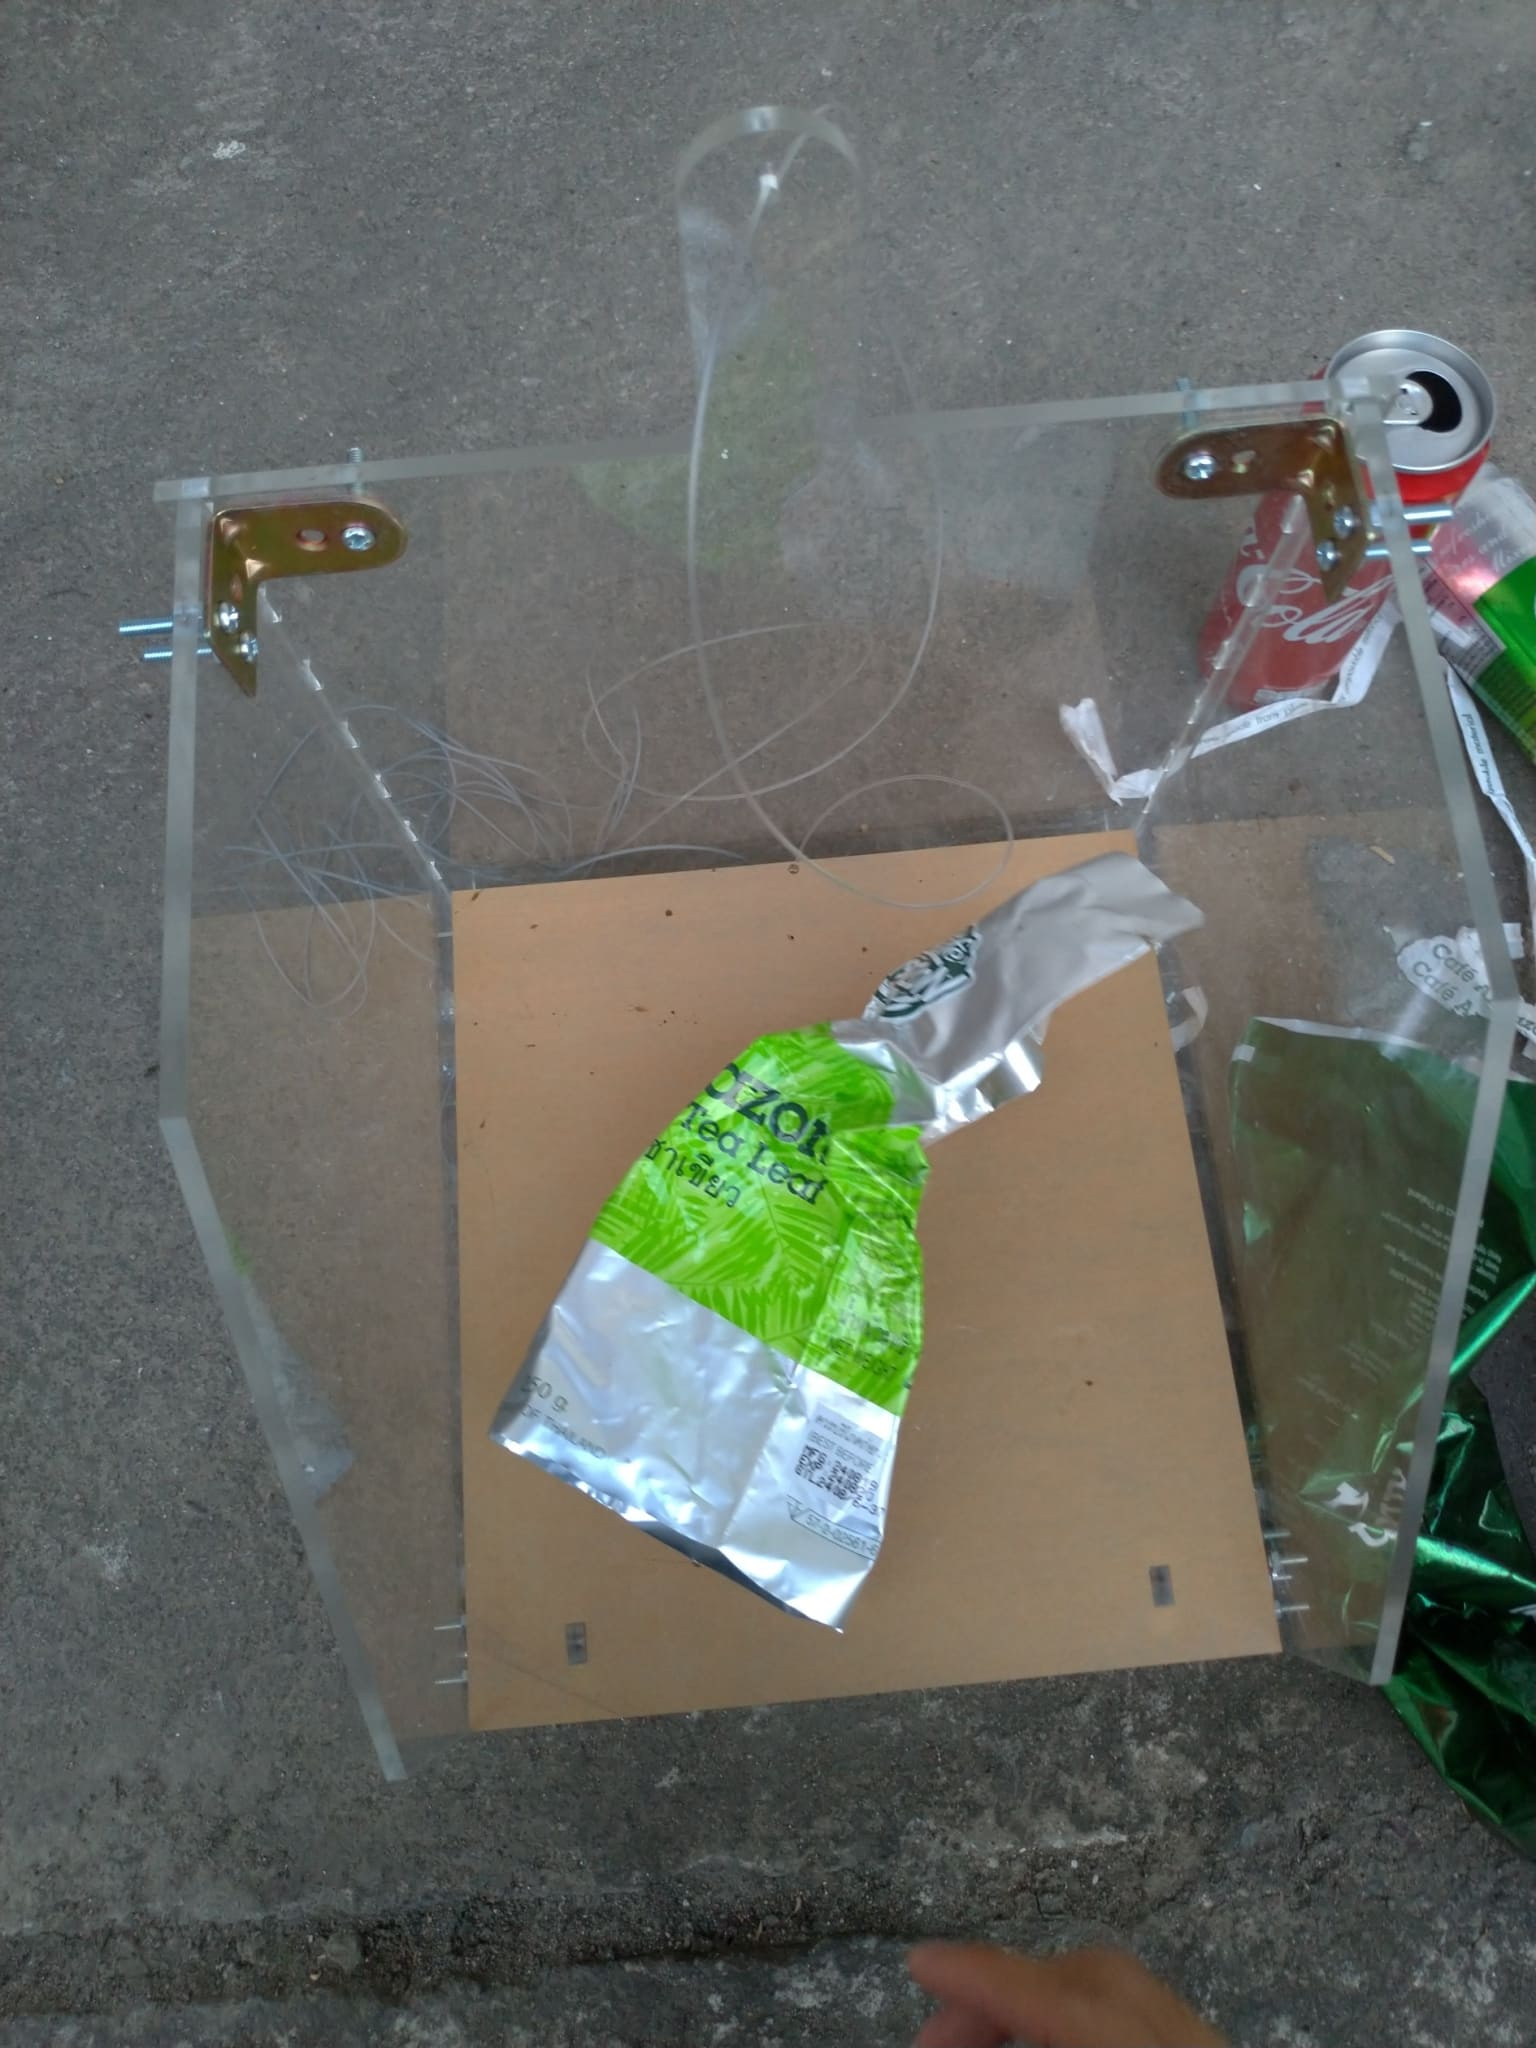AlCan: (1200, 332, 1494, 714), (1391, 458, 1533, 748)
Others: (490, 855, 1207, 1630), (1225, 1014, 1536, 1854), (1057, 592, 1421, 822), (1394, 651, 1536, 1009)
